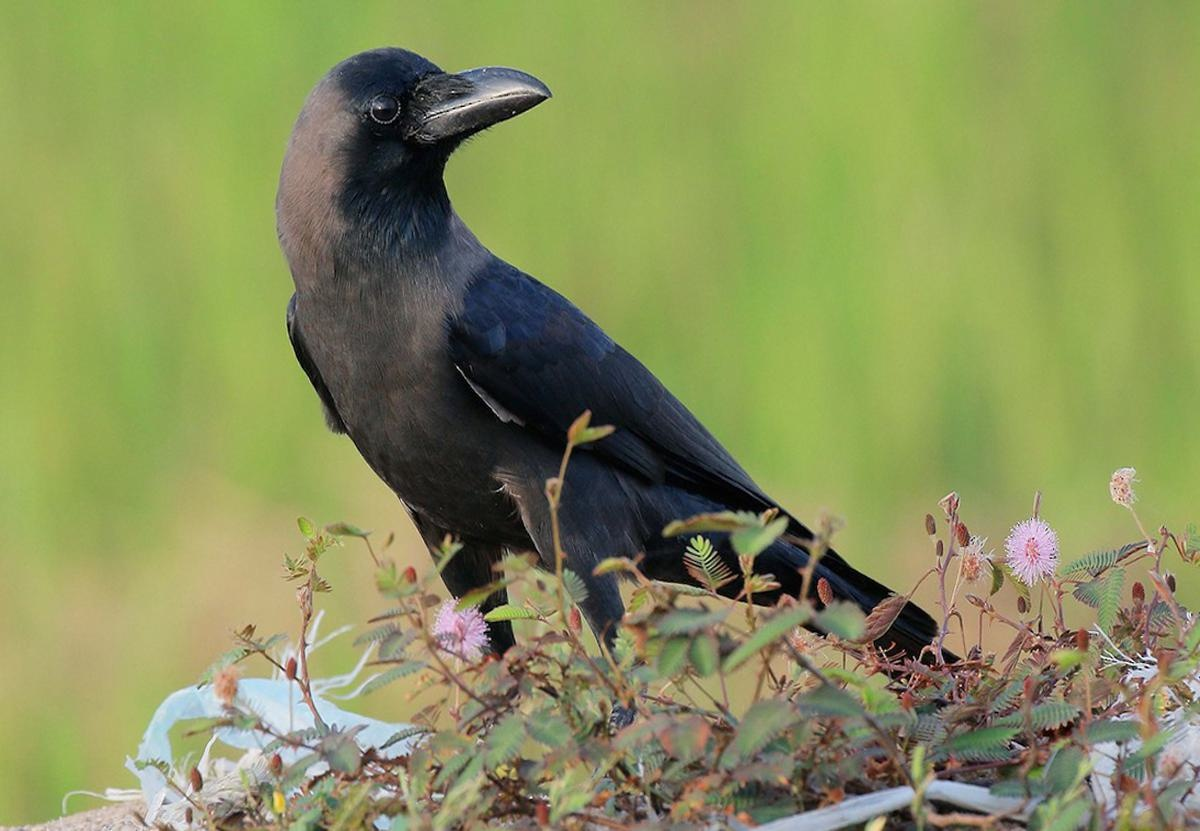crow: (268, 33, 953, 693)
